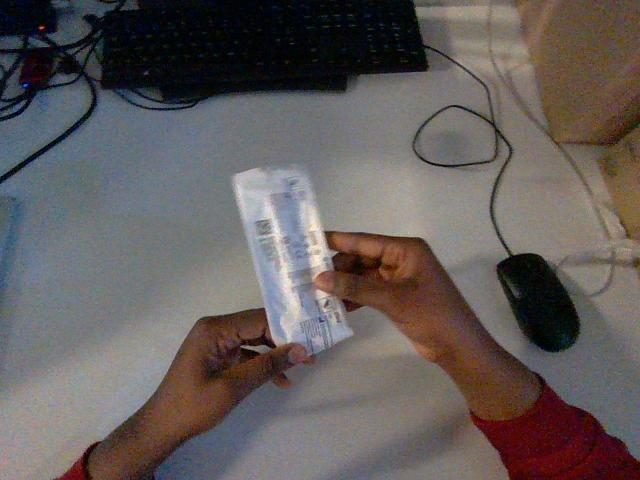syringe: (233, 166, 352, 353)
